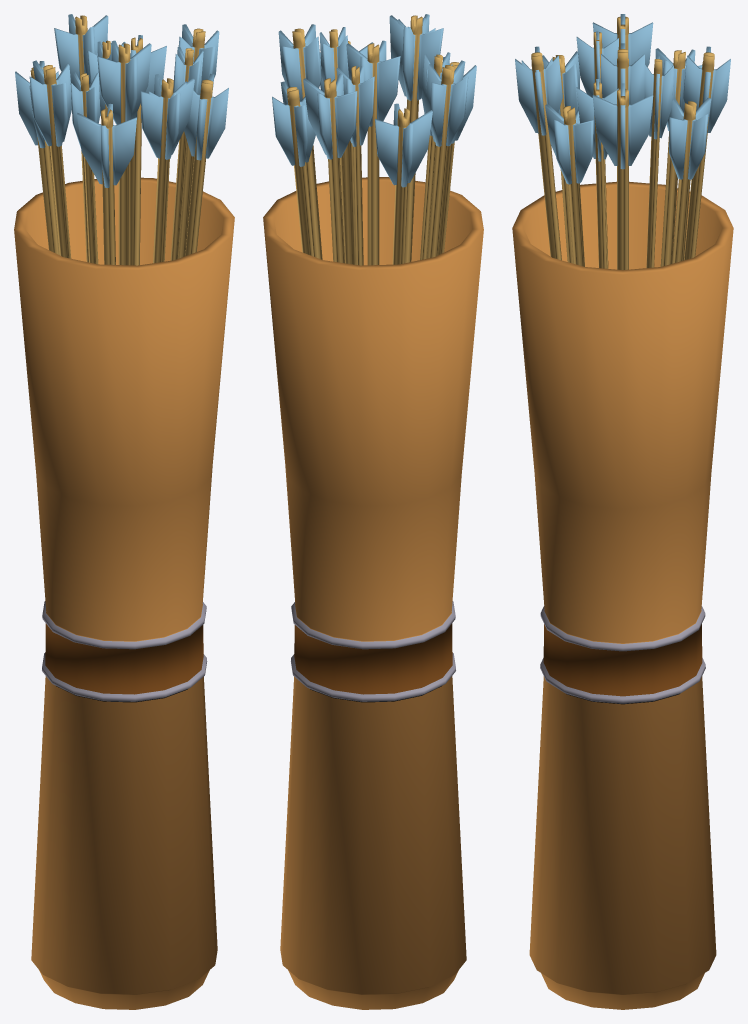
File: Quiver001.fbx
3 renders of one model, left to right at view 1: azimuth 30°, elevation 25°; view 2: azimuth 150°, elevation 25°; view 3: azimuth 270°, elevation 25°, orthographic.
Parts seen in each view (by area): view 1: Cylinder.002; view 2: Cylinder.002; view 3: Cylinder.002.
Part boxes in pixels (box(x1,y1,x2,y2)): Cylinder.002: box(14, 14, 234, 1009); Cylinder.002: box(263, 14, 483, 1009); Cylinder.002: box(512, 14, 733, 1009).
Bounding box in the file's own units: 420 × 1939 × 420.
